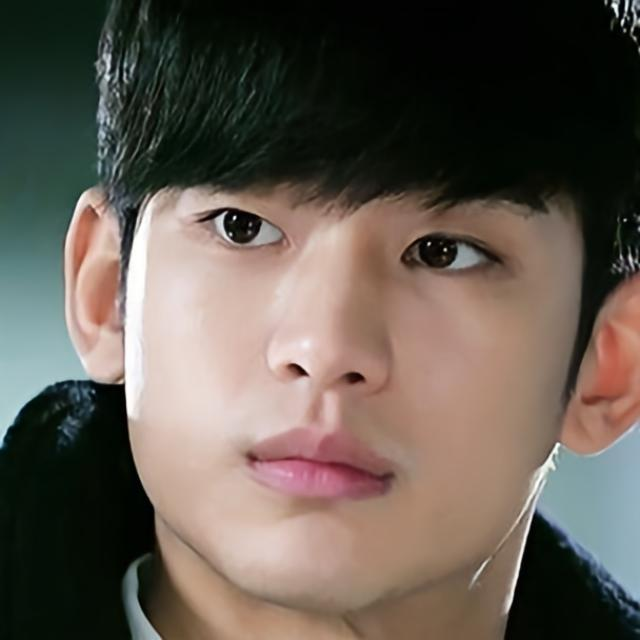neutral: (123, 172, 585, 605)
